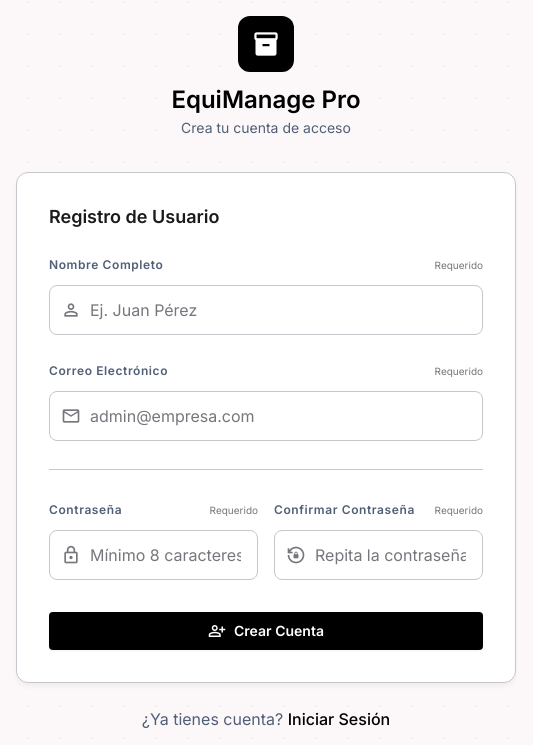
it: RegisterPage › registra exitosamente y muestra el mensaje de éxito
The width and height of the screenshot is (533, 745).
Type "Nuevo Usuario" into the field labelled "Nombre Completo" at (266,310), box [49, 284, 483, 334]
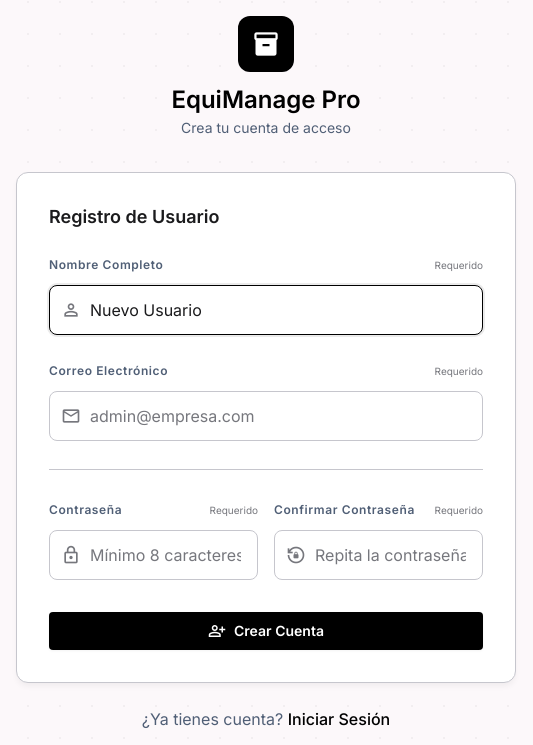
Type "nuevo@dds.com" into the field labelled "Correo Electrónico" at (266,416), box [49, 390, 483, 440]
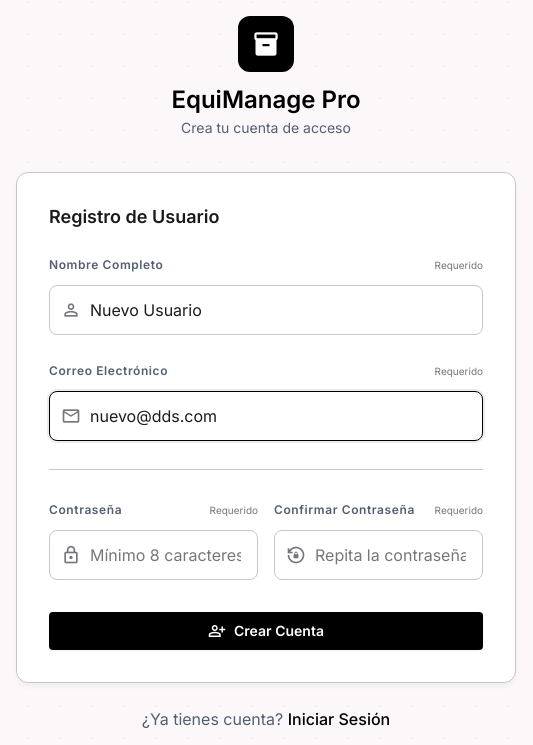
Type "abcdef" into the password field labelled "Contraseña" at (154,554), box [49, 530, 258, 580]
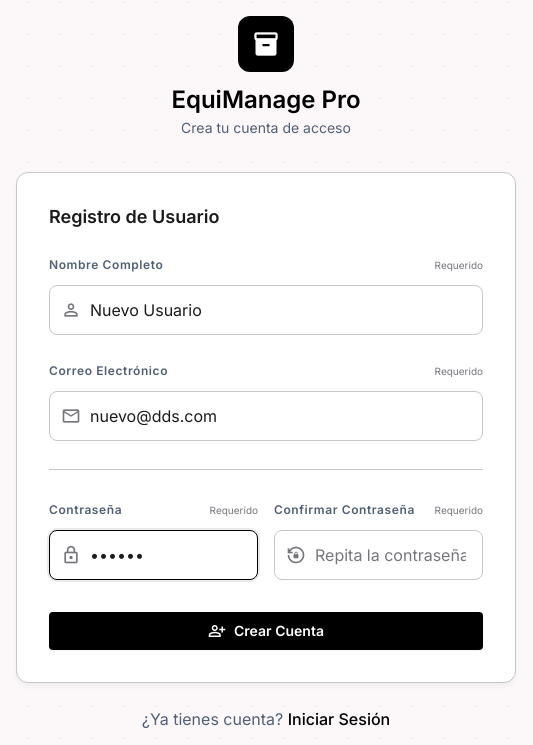
Type "abcdef" into the password field labelled "Confirmar Contraseña" at (378,554), box [274, 530, 483, 580]
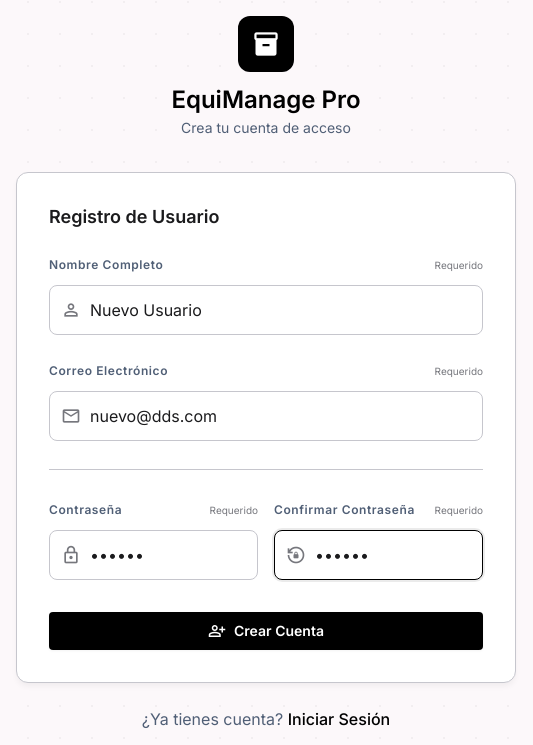
Click the button "Crear Cuenta" at (266,630), box [49, 612, 483, 650]
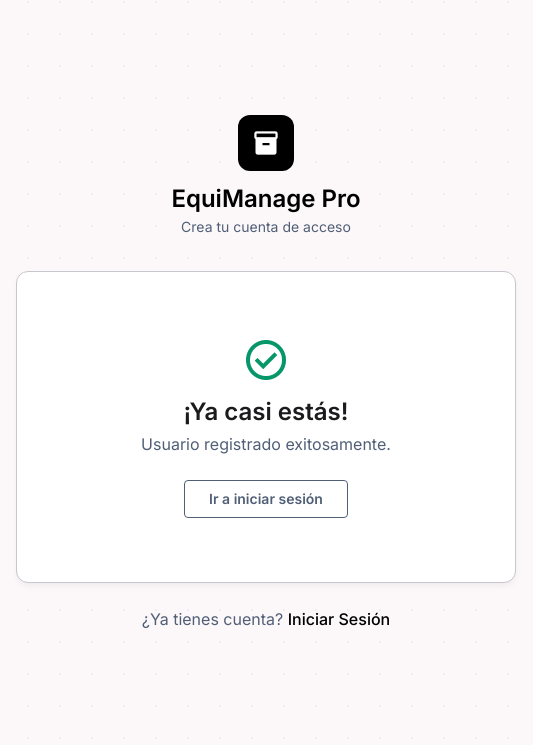
Expected: the text "Usuario registrado exitosamente." is shown, [141, 432, 391, 456]
